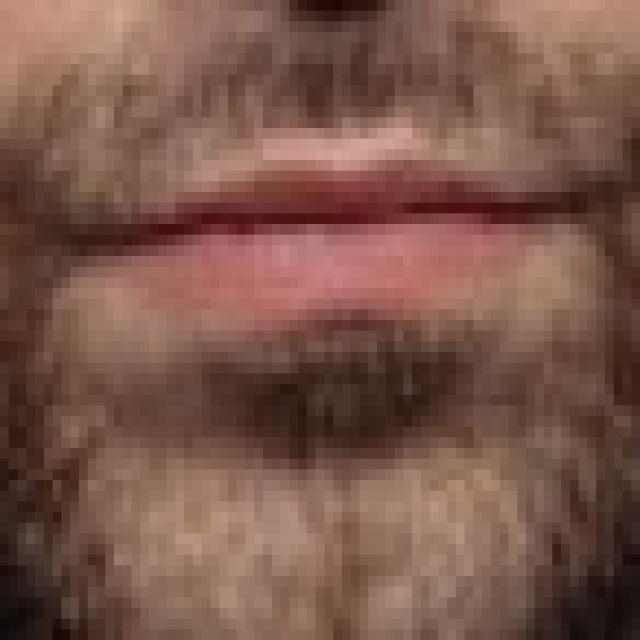closed-mouth: (0, 0, 631, 629), (35, 138, 623, 448)
